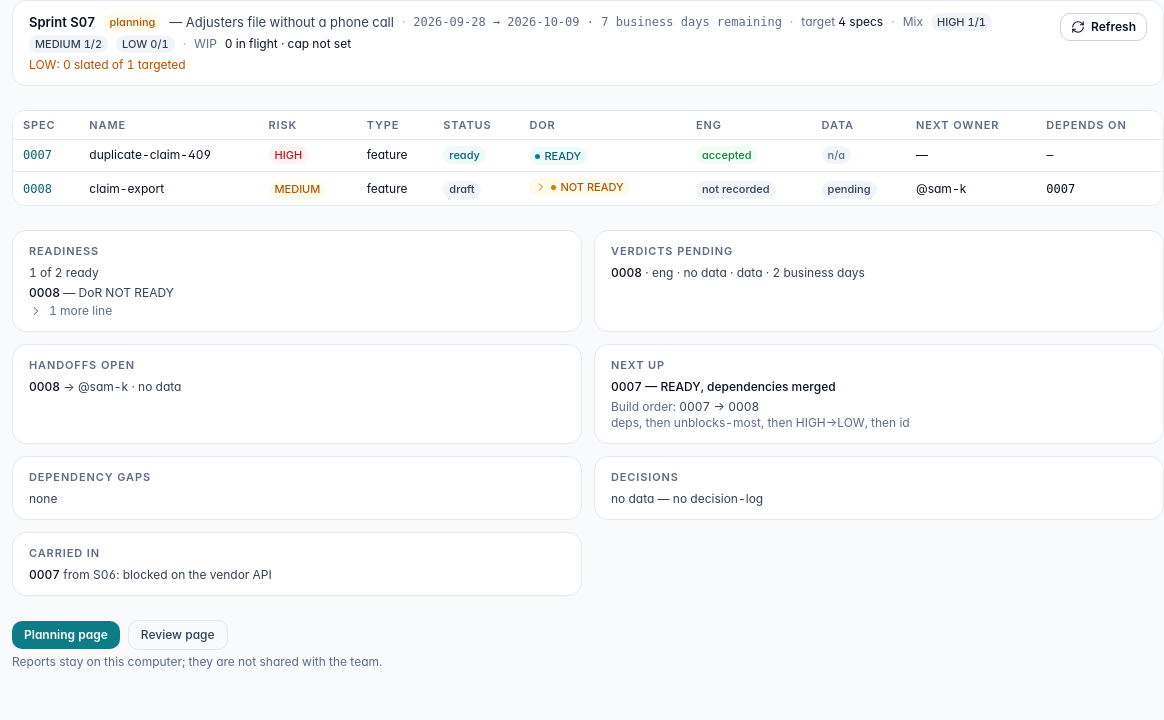
Test: SprintBoard: the two pages › Review page asks for the review kind
Expected: the element with test id "sprint-pages" is shown, [12, 620, 382, 668]
Click the button "Review page".
click(178, 634)  # box [128, 620, 228, 650]
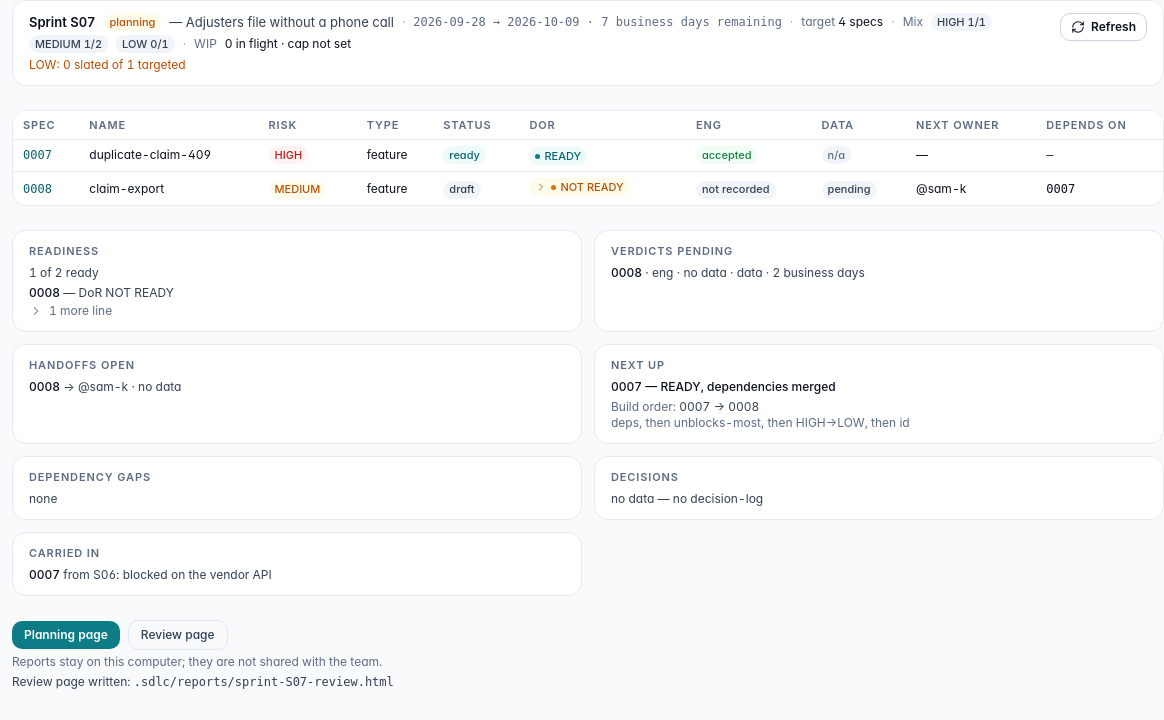
Now the element with test id "sprint-page-result" reads "Review page written: .sdlc/reports/sprint-S07-review.html", box [12, 674, 394, 688]
